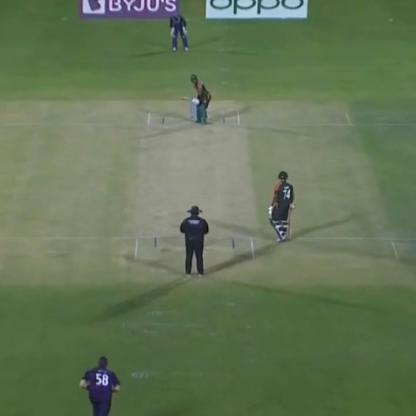pitch: (126, 113, 250, 271)
